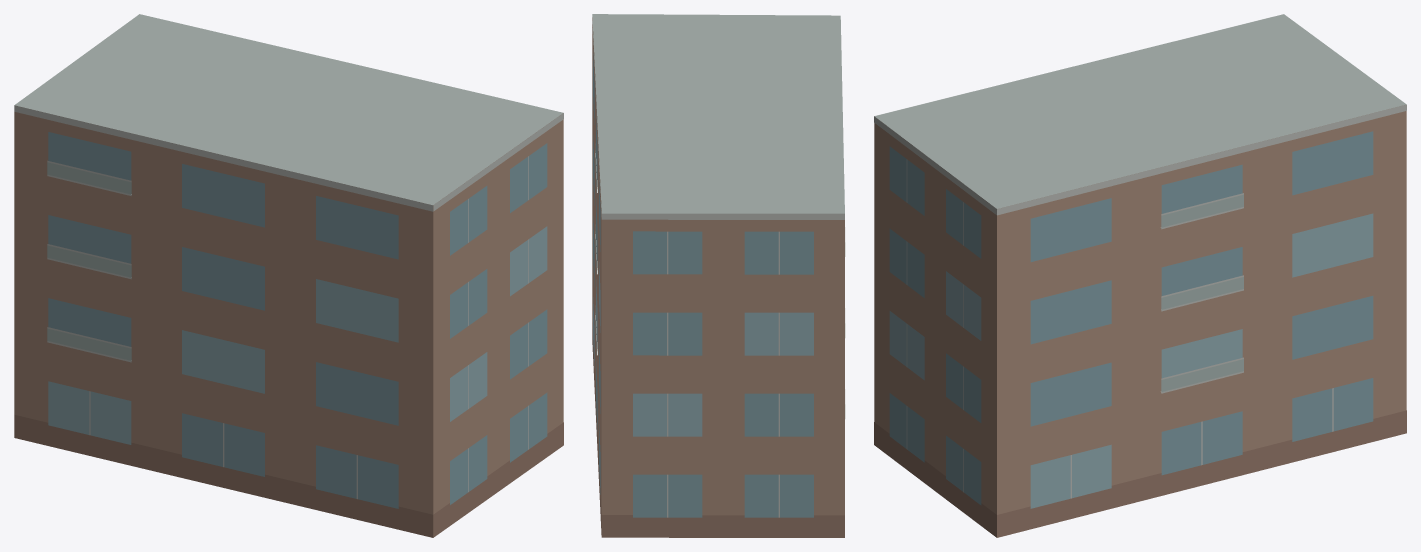
The model's file is survey-upis-32763461.glb.
3 renders of one model, left to right at view 1: azimuth 30°, elevation 25°; view 2: azimuth 150°, elevation 25°; view 3: azimuth 270°, elevation 25°, orthographic. The views are drawn at different scales.
Parts seen in each view (by area): view 1: survey-upis-32763461.tmp; view 2: survey-upis-32763461.tmp; view 3: survey-upis-32763461.tmp.
Boxes of the visible parts, x1=… form: survey-upis-32763461.tmp: x1=14, y1=14, x2=563, y2=537; survey-upis-32763461.tmp: x1=592, y1=14, x2=845, y2=537; survey-upis-32763461.tmp: x1=874, y1=14, x2=1406, y2=537.
Size of the model in its own units: 16.04 by 12.6 by 18.51.
